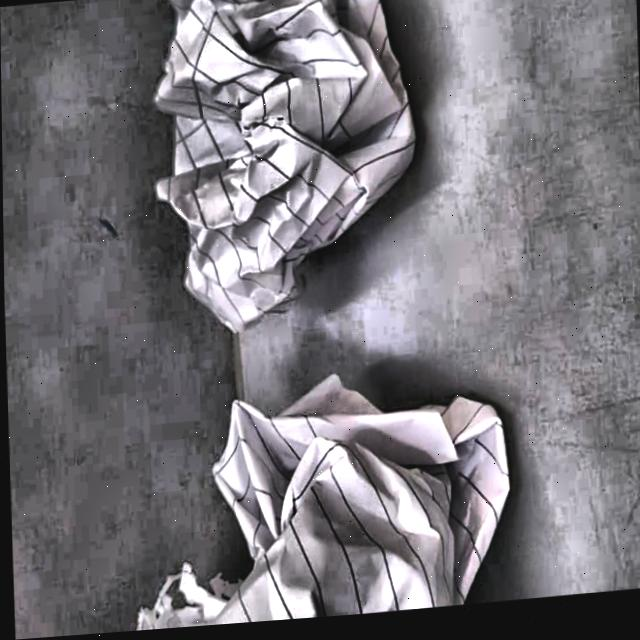paper: (101, 342, 544, 634), (127, 0, 431, 315)
